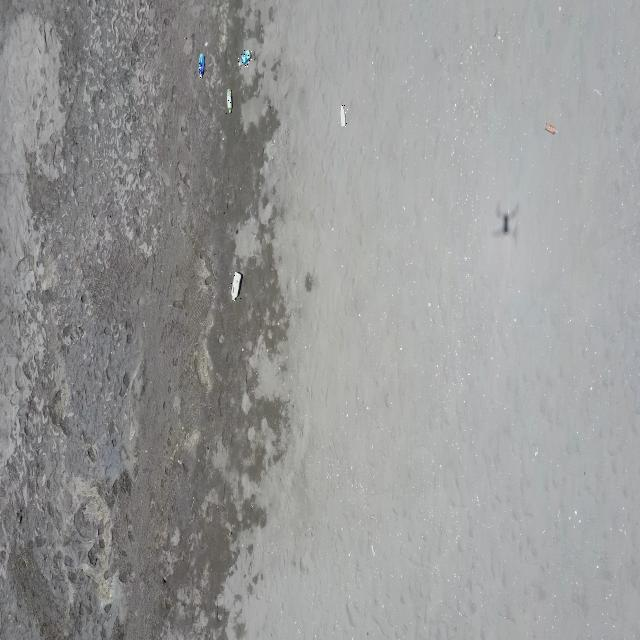plastic-bottle: (231, 272, 243, 301), (238, 49, 252, 68), (340, 104, 348, 128), (198, 54, 205, 80), (226, 87, 232, 114)
